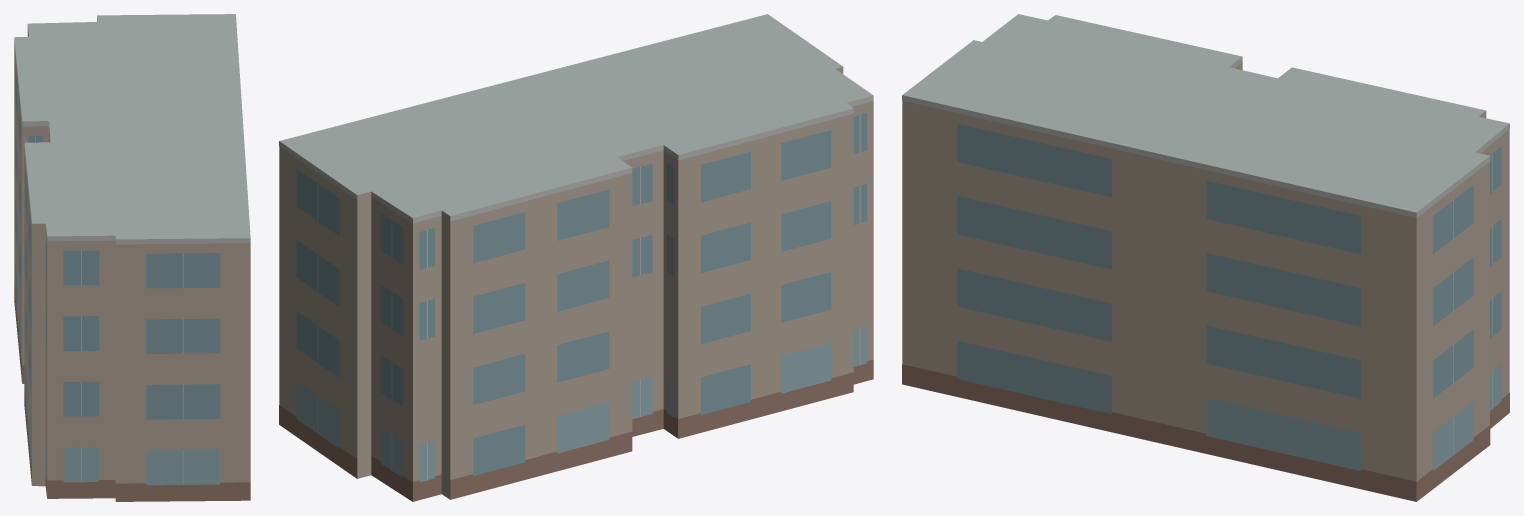
Rendered from survey-upis-32670821.glb.
3 renders of one model, left to right at view 1: azimuth 30°, elevation 25°; view 2: azimuth 150°, elevation 25°; view 3: azimuth 270°, elevation 25°, orthographic. The views are drawn at different scales.
Parts seen in each view (by area): view 1: survey-upis-32670821.tmp; view 2: survey-upis-32670821.tmp; view 3: survey-upis-32670821.tmp.
Part boxes in pixels (x1=…): survey-upis-32670821.tmp: x1=14, y1=14, x2=250, y2=501; survey-upis-32670821.tmp: x1=279, y1=14, x2=873, y2=501; survey-upis-32670821.tmp: x1=902, y1=14, x2=1509, y2=501.
Size of the model in its own units: 19.01 by 12.9 by 24.57.
